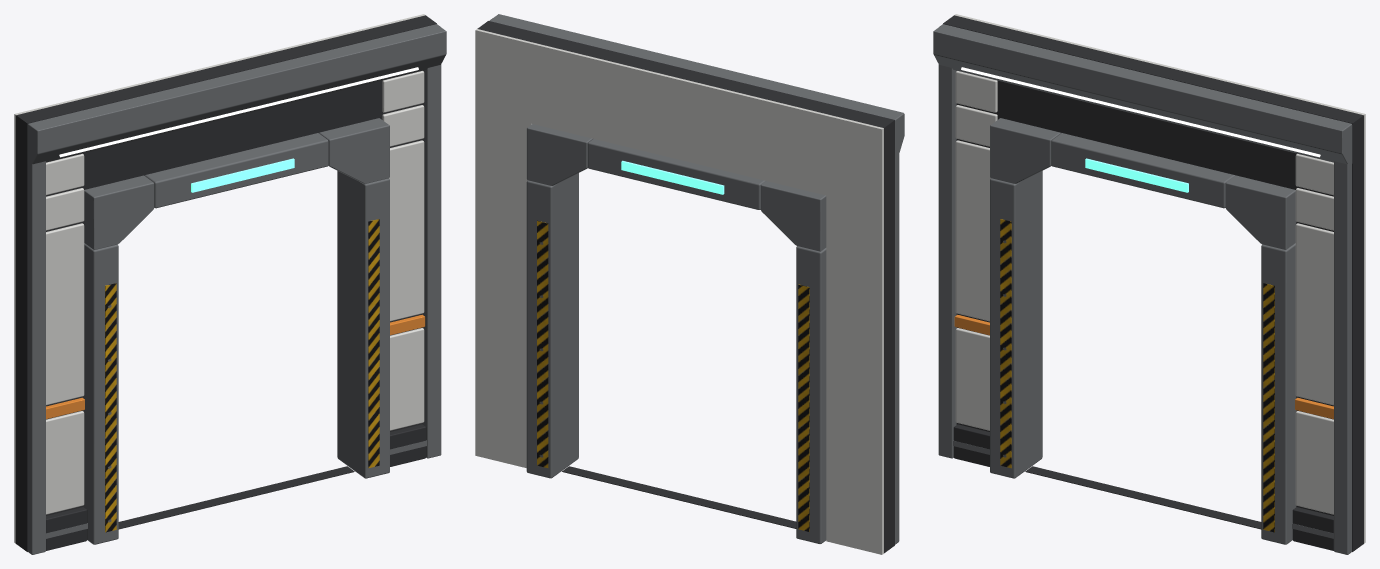
The model's file is kit_door_frame.glb.
The picture shows the model from 3 angles, left to right: view 1: azimuth 30°, elevation 25°; view 2: azimuth 150°, elevation 25°; view 3: azimuth 330°, elevation 25°; orthographic projection.
Visible parts, largest first — view 1: kit_door_frame; view 2: kit_door_frame; view 3: kit_door_frame.
Boxes of the visible parts, x1,y1,x2,y2 form: kit_door_frame: (14, 14, 446, 554); kit_door_frame: (475, 14, 904, 554); kit_door_frame: (933, 14, 1365, 554).
Bounding box in the file's own units: 4 × 4 × 0.524.
Materials: 7 (1 with a texture image).
